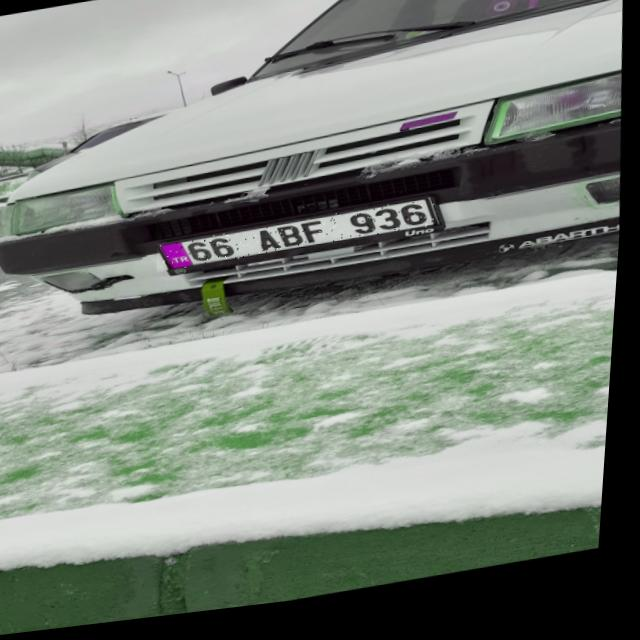license_plate: (160, 207, 441, 277)
